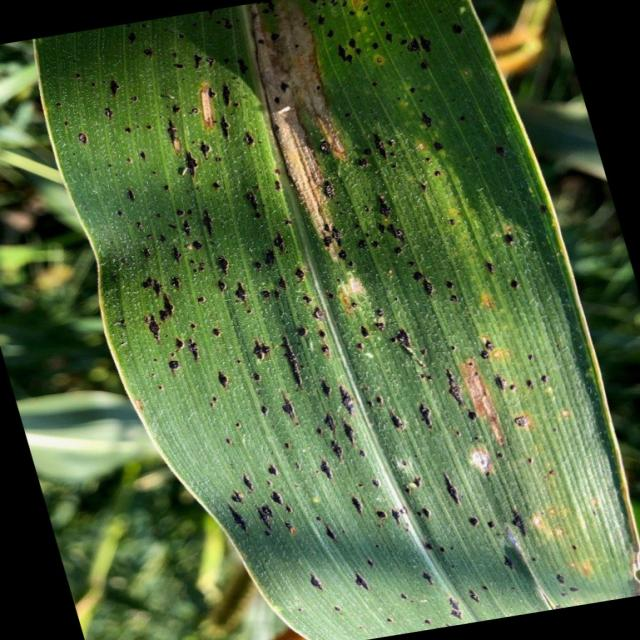Tar_Spot: (131, 56, 528, 578)
